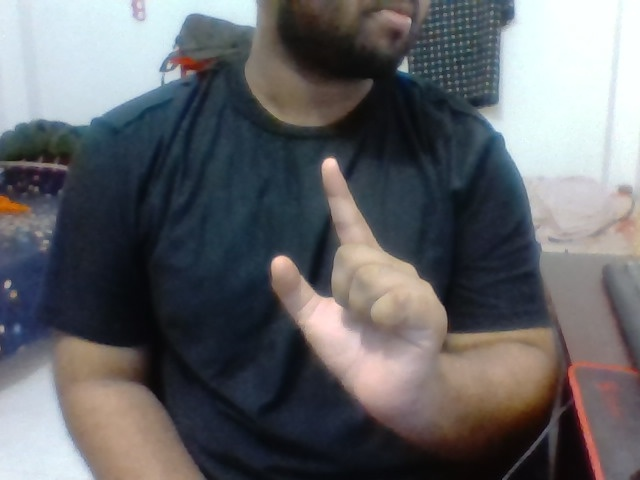J: (263, 148, 454, 406)
